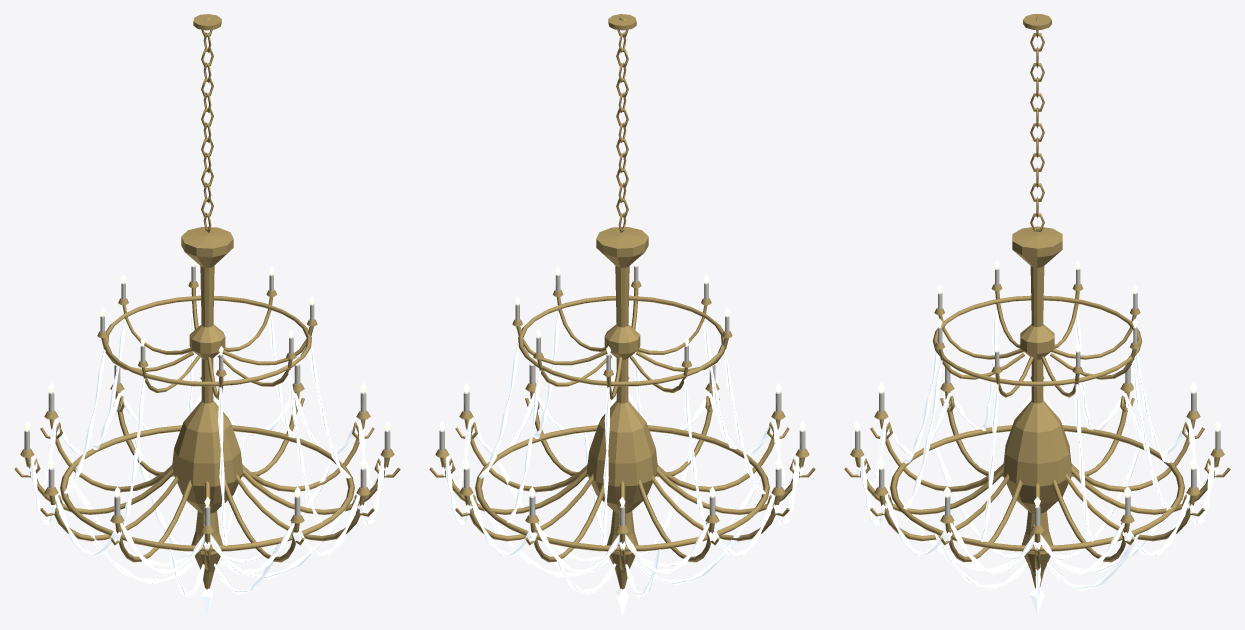
The model's file is chandelier.glb.
The picture shows the model from 3 angles, left to right: view 1: azimuth 30°, elevation 25°; view 2: azimuth 150°, elevation 25°; view 3: azimuth 270°, elevation 25°; orthographic projection.
Parts seen in each view (by area): view 1: brass__chandelier__solid, crystal__chandelier__ns, chalk__chandelier__ns, bulb__chandelier__ns; view 2: brass__chandelier__solid, crystal__chandelier__ns, chalk__chandelier__ns, bulb__chandelier__ns; view 3: brass__chandelier__solid, crystal__chandelier__ns, chalk__chandelier__ns, bulb__chandelier__ns.
Part boxes in pixels (left/top/right/bottom): brass__chandelier__solid: left=14, top=14, right=400, bottom=589; crystal__chandelier__ns: left=26, top=304, right=388, bottom=615; chalk__chandelier__ns: left=24, top=265, right=390, bottom=526; bulb__chandelier__ns: left=24, top=259, right=390, bottom=507; brass__chandelier__solid: left=429, top=14, right=815, bottom=589; crystal__chandelier__ns: left=441, top=310, right=803, bottom=615; chalk__chandelier__ns: left=439, top=265, right=805, bottom=526; bulb__chandelier__ns: left=439, top=259, right=805, bottom=507; brass__chandelier__solid: left=844, top=14, right=1230, bottom=588; crystal__chandelier__ns: left=855, top=305, right=1219, bottom=615; chalk__chandelier__ns: left=855, top=268, right=1220, bottom=526; bulb__chandelier__ns: left=854, top=260, right=1220, bottom=507.
Bounding box in the file's own units: 3.22 × 5.49 × 3.22.
